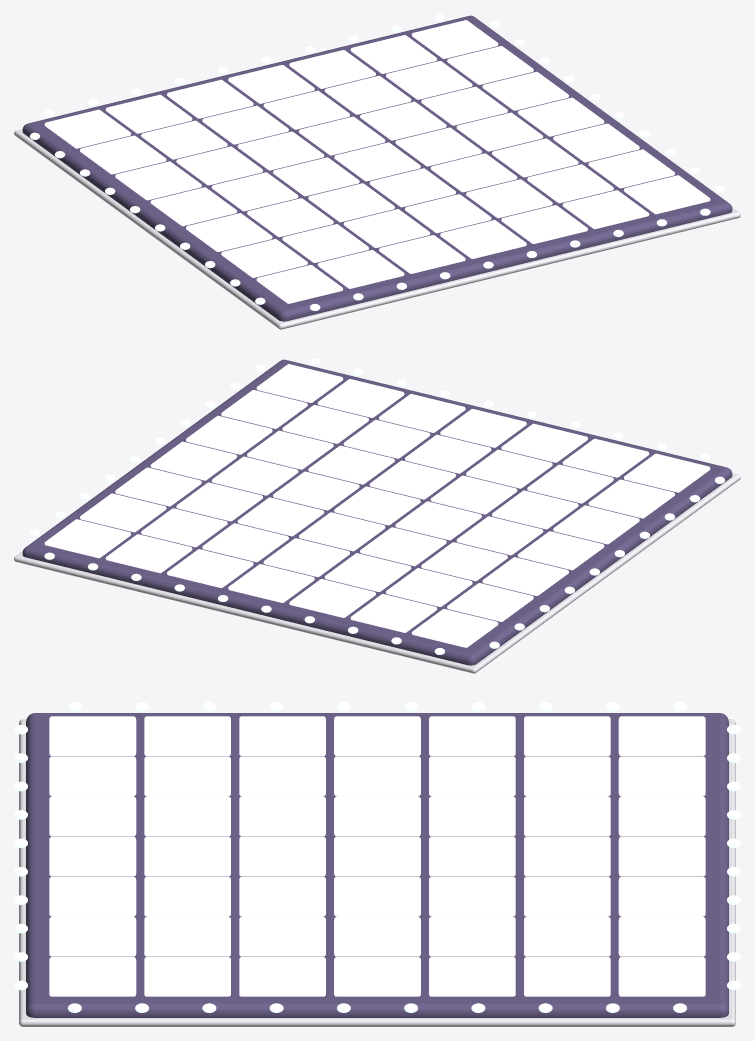
The model's file is dance-floor.glb.
The picture shows the model from 3 angles, top to bottom: view 1: azimuth 30°, elevation 25°; view 2: azimuth 150°, elevation 25°; view 3: azimuth 270°, elevation 25°; orthographic projection. The views are drawn at different scales.
Visible parts, largest first — view 1: floor_base, floor_trim, tile_0_1, tile_3_4, tile_5_3, tile_6_6, tile_0_5, tile_1_2, tile_2_0, tile_3_0, tile_3_5, tile_4_1 (+39 smaller); view 2: floor_base, floor_trim, tile_0_6, tile_1_3, tile_3_4, tile_6_1, tile_2_1, tile_3_0, tile_3_5, tile_4_0, tile_5_2, tile_6_5 (+39 smaller); view 3: floor_base, floor_trim, tile_0_2, tile_6_2, tile_0_1, tile_6_1, tile_0_3, tile_0_4, tile_0_5, tile_6_3, tile_6_4, tile_6_5 (+39 smaller).
Part boxes in pixels (box(x1,y1,x2,y2)): floor_base: box(22, 15, 732, 321); floor_trim: box(14, 129, 740, 329); tile_0_1: box(105, 94, 192, 133); tile_3_4: box(395, 127, 481, 166); tile_5_3: box(405, 194, 491, 233); tile_6_6: box(624, 175, 710, 214); tile_0_5: box(350, 35, 437, 73); tile_1_2: box(202, 105, 288, 144); tile_2_0: box(115, 161, 201, 200); tile_3_0: box(150, 187, 237, 226); tile_3_5: box(456, 112, 543, 151); tile_4_1: box(247, 198, 333, 237); floor_base: box(22, 359, 732, 665); floor_trim: box(14, 473, 740, 673); tile_0_6: box(44, 519, 130, 558); tile_1_3: box(263, 538, 349, 577); tile_3_4: box(273, 471, 359, 510); tile_6_1: box(562, 438, 649, 477); tile_2_1: box(421, 542, 507, 581); tile_3_0: box(517, 531, 604, 570); tile_3_5: box(211, 456, 298, 495); tile_4_0: box(553, 505, 639, 544); tile_5_2: box(466, 449, 552, 488); tile_6_5: box(317, 379, 404, 417); floor_base: box(26, 713, 728, 1017); floor_trim: box(19, 719, 735, 1026); tile_0_2: box(618, 796, 705, 836); tile_6_2: box(49, 796, 136, 836); tile_0_1: box(618, 756, 705, 796); tile_6_1: box(49, 756, 136, 796); tile_0_3: box(618, 836, 705, 876); tile_0_4: box(618, 876, 705, 916); tile_0_5: box(618, 916, 705, 956); tile_6_3: box(49, 836, 136, 876); tile_6_4: box(49, 876, 136, 916); tile_6_5: box(49, 916, 136, 956).
Size of the model in its own units: 7.2 by 0.252 by 7.2.
